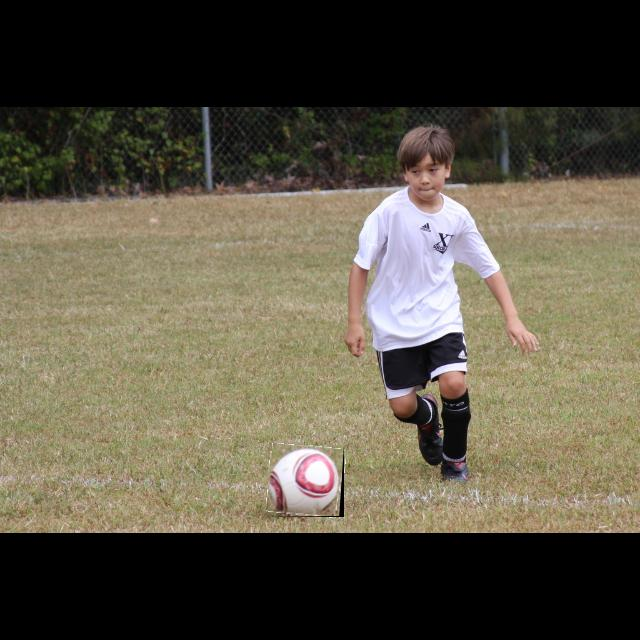Football: (268, 445, 344, 517)
